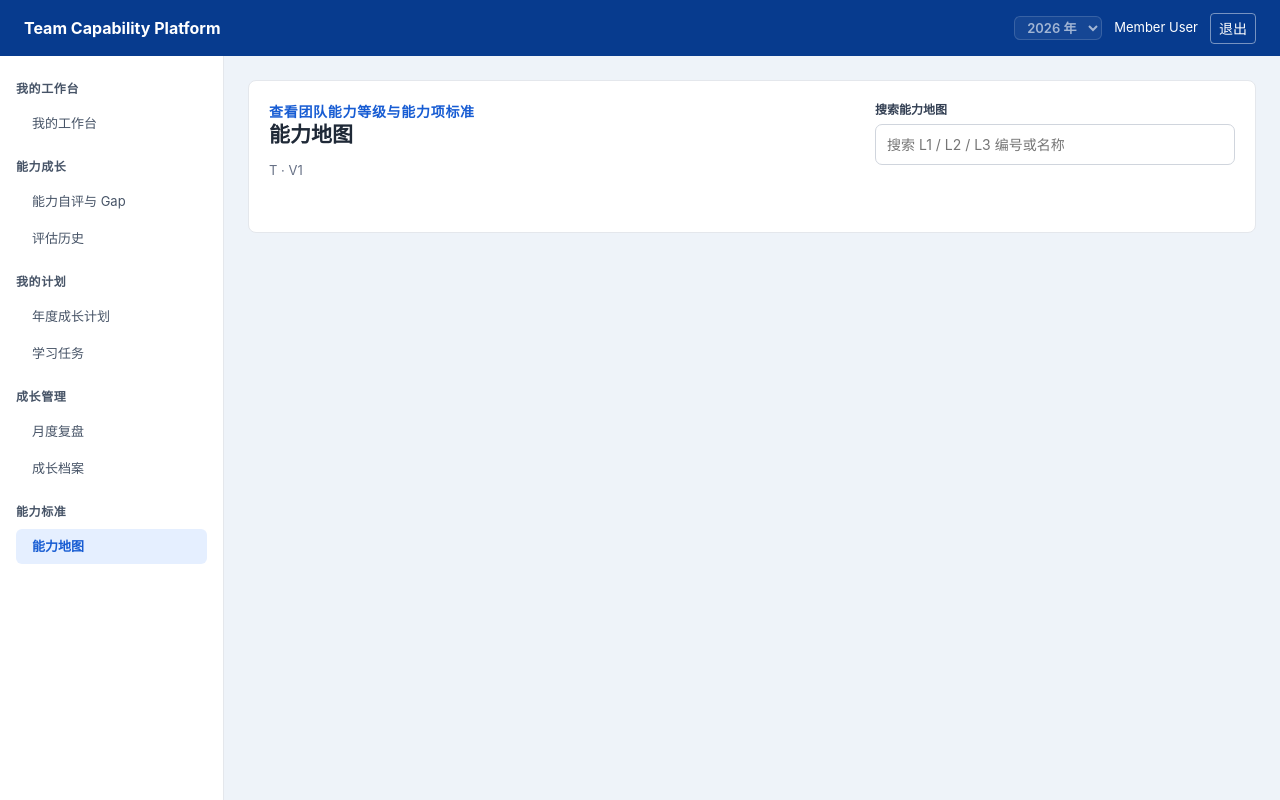
global logout action › keeps the authenticated page visible when logout fails
Click the button "退出".
click(1233, 28)  # box x1=1210 y1=12 x2=1256 y2=44
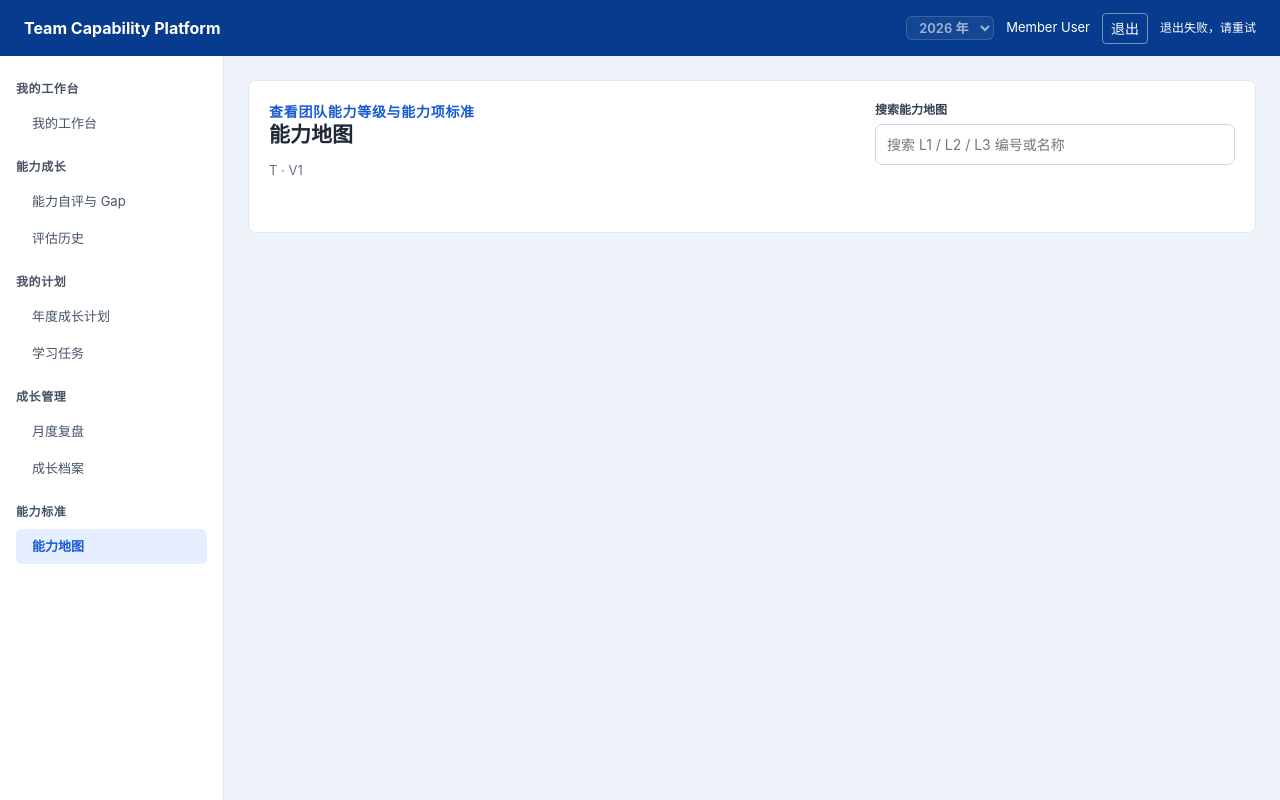
Expected: the text "Member User" is shown, x1=1006 y1=18 x2=1090 y2=38
Expected: the message reads "退出失败，请重试", x1=1160 y1=20 x2=1256 y2=35
